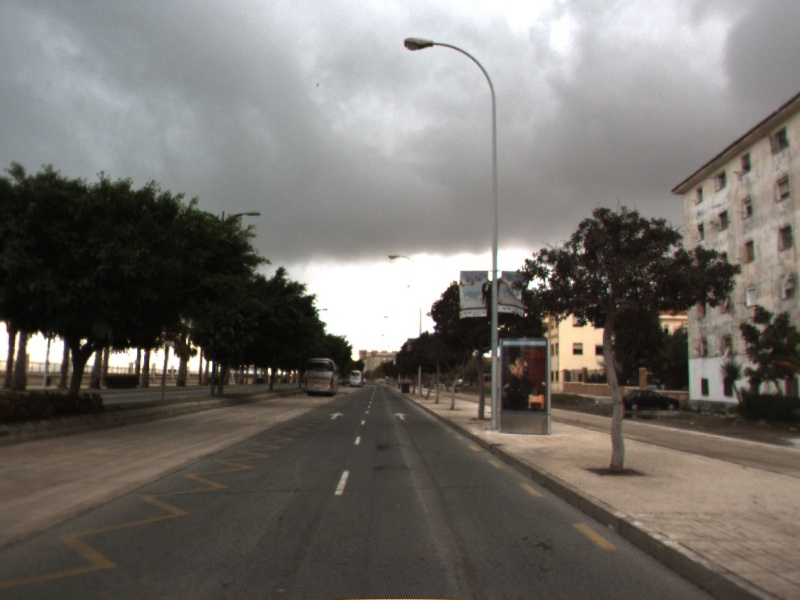STRAIGHT: (391, 410, 410, 422), (327, 410, 346, 421)
